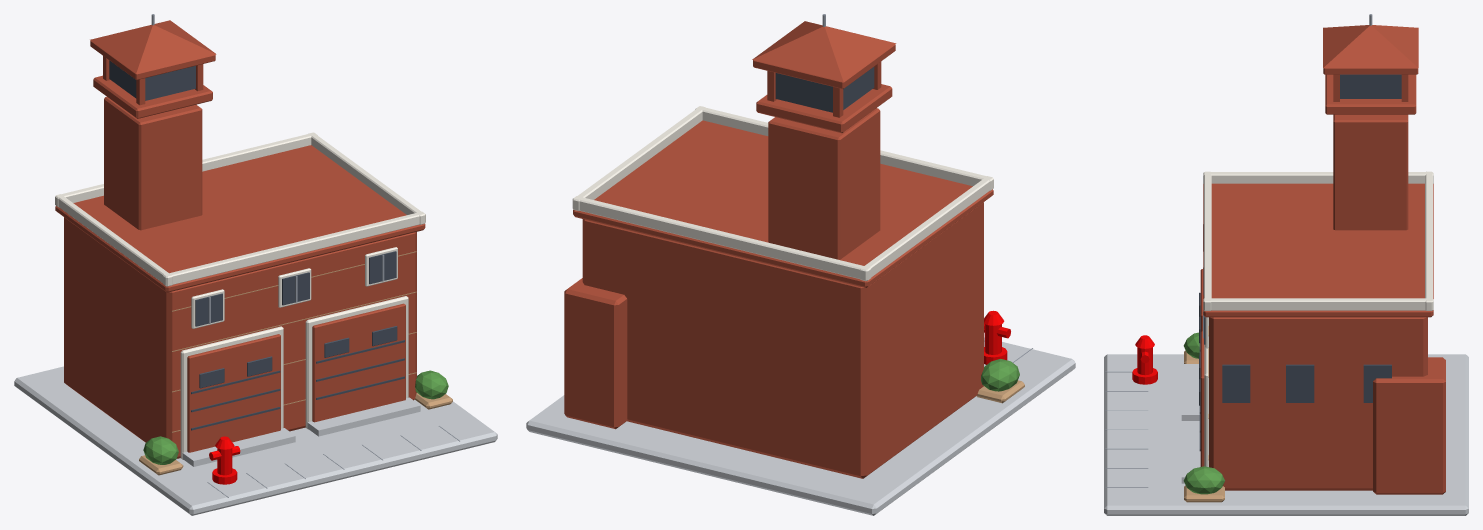
Rendered from fire.glb.
3 views of the same model, side by side, from view 1: azimuth 30°, elevation 25°; view 2: azimuth 150°, elevation 25°; view 3: azimuth 270°, elevation 25° (orthographic). The views are drawn at different scales.
Visible parts, largest first — view 1: fire; view 2: fire; view 3: fire.
Part boxes in pixels (bbox=[...]): fire: bbox=[14, 14, 497, 515]; fire: bbox=[526, 14, 1075, 515]; fire: bbox=[1104, 14, 1468, 515].
Size of the model in its own units: 8 by 9.55 by 8.
Materials: 1 (1 with a texture image).
